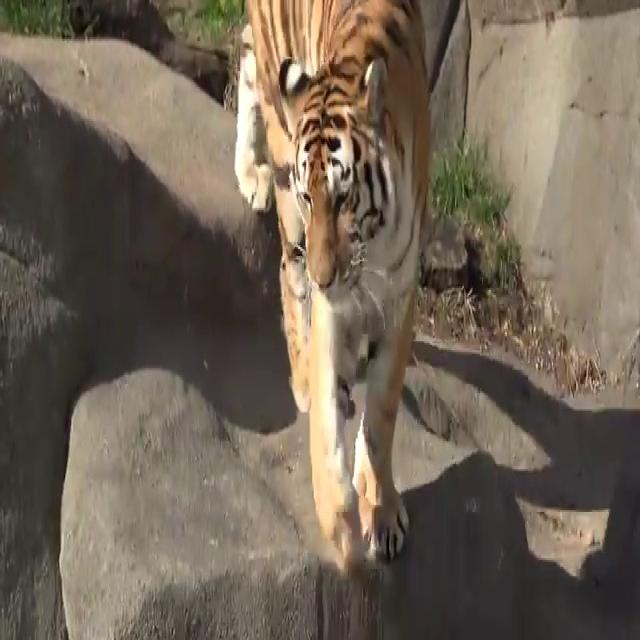tiger: (234, 0, 429, 574)
